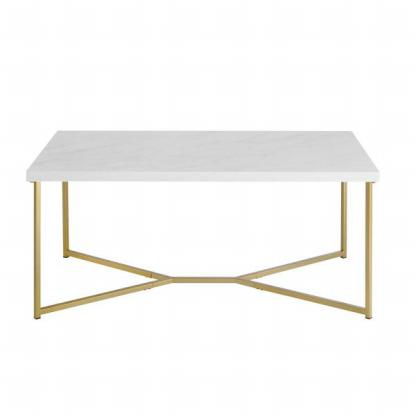table: (24, 127, 382, 323)
